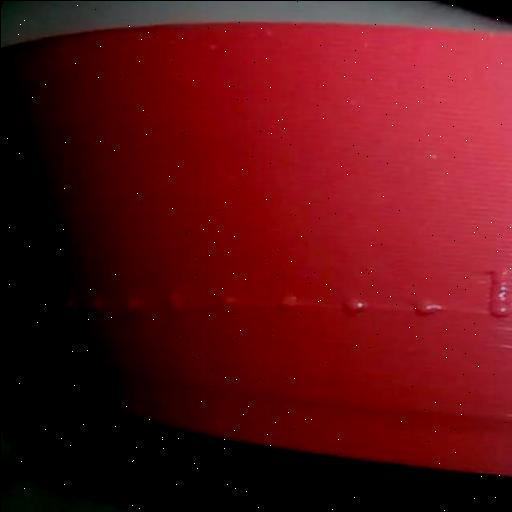blobs: (483, 270, 512, 318), (414, 290, 444, 320), (272, 289, 304, 313), (340, 292, 368, 318), (162, 288, 190, 310), (212, 288, 238, 309), (121, 292, 145, 314), (88, 294, 106, 312)
